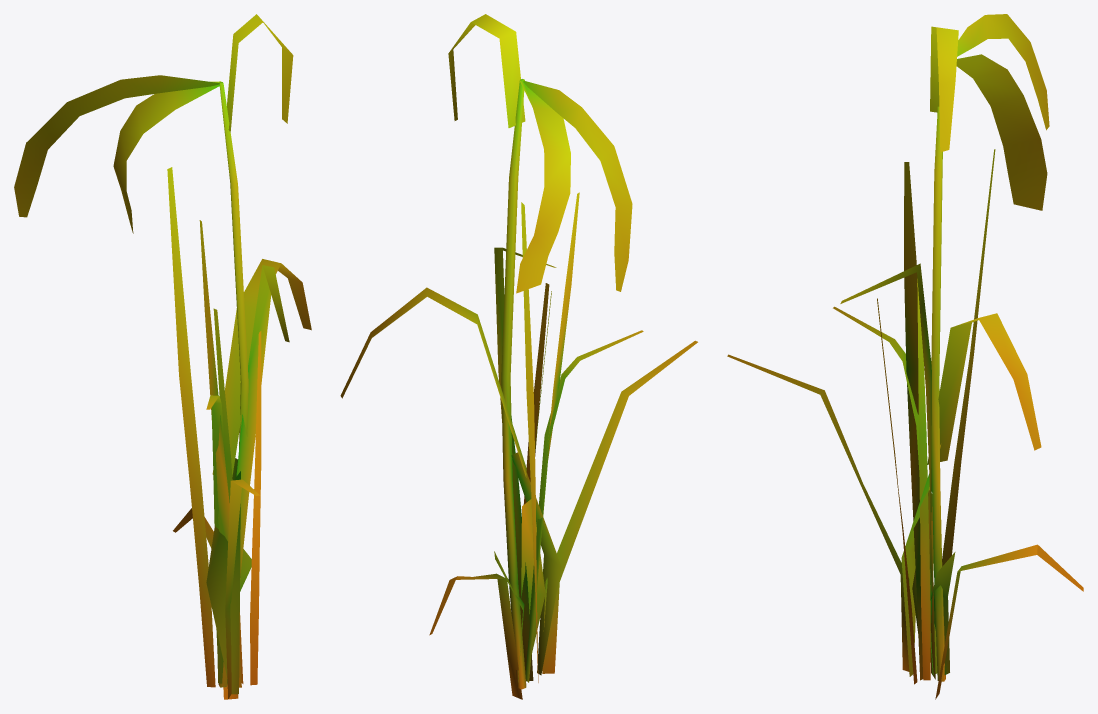
File: SM_RicePlants_11.fbx
3 renders of one model, left to right at view 1: azimuth 30°, elevation 25°; view 2: azimuth 150°, elevation 25°; view 3: azimuth 270°, elevation 25°, orthographic. The views are drawn at different scales.
Visible parts, largest first — view 1: SM_RicePlants_11; view 2: SM_RicePlants_11; view 3: SM_RicePlants_11.
Boxes of the visible parts, x1,y1,x2,y2 form: SM_RicePlants_11: (14,14,311,699); SM_RicePlants_11: (340,14,697,699); SM_RicePlants_11: (727,14,1083,699).
Size of the model in its own units: 0.8131 by 1.78 by 0.8412.
